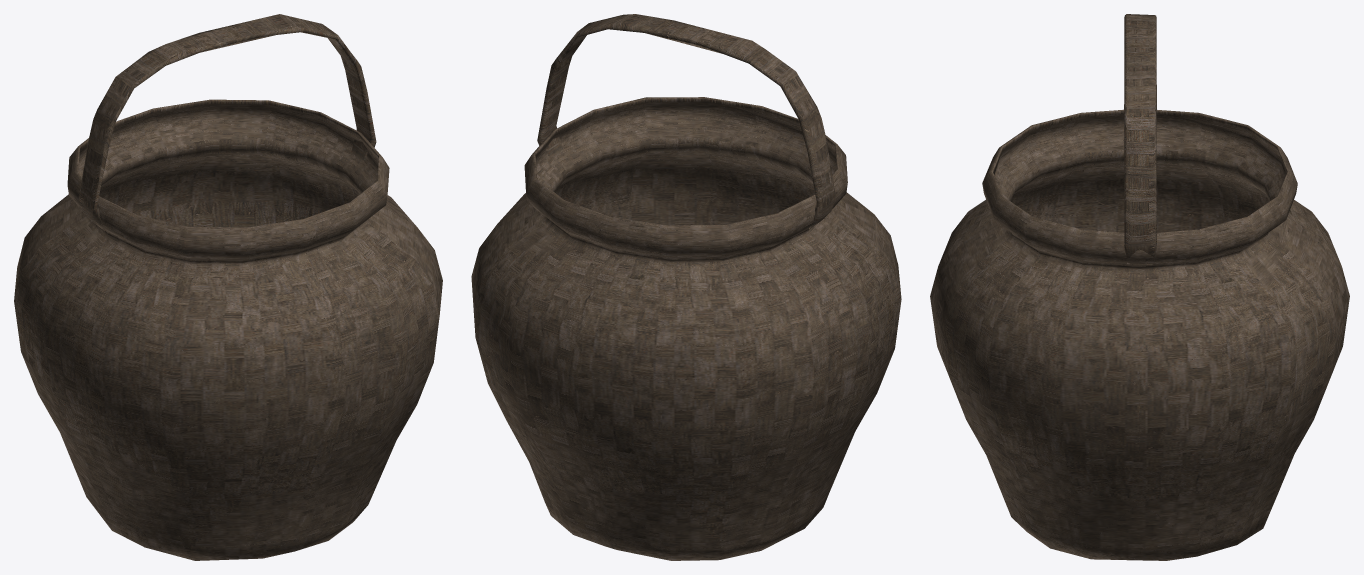
File: SM_basket02.fbx
3 views of the same model, side by side, from view 1: azimuth 30°, elevation 25°; view 2: azimuth 150°, elevation 25°; view 3: azimuth 270°, elevation 25° (orthographic).
Visible parts, largest first — view 1: SM_basket02_LOD0; view 2: SM_basket02_LOD0; view 3: SM_basket02_LOD0.
Part boxes in pixels (x1=…): SM_basket02_LOD0: x1=14, y1=14, x2=442, y2=560; SM_basket02_LOD0: x1=471, y1=14, x2=901, y2=560; SM_basket02_LOD0: x1=930, y1=14, x2=1349, y2=560.
Size of the model in its own units: 59.85 by 59.85 by 74.98.
